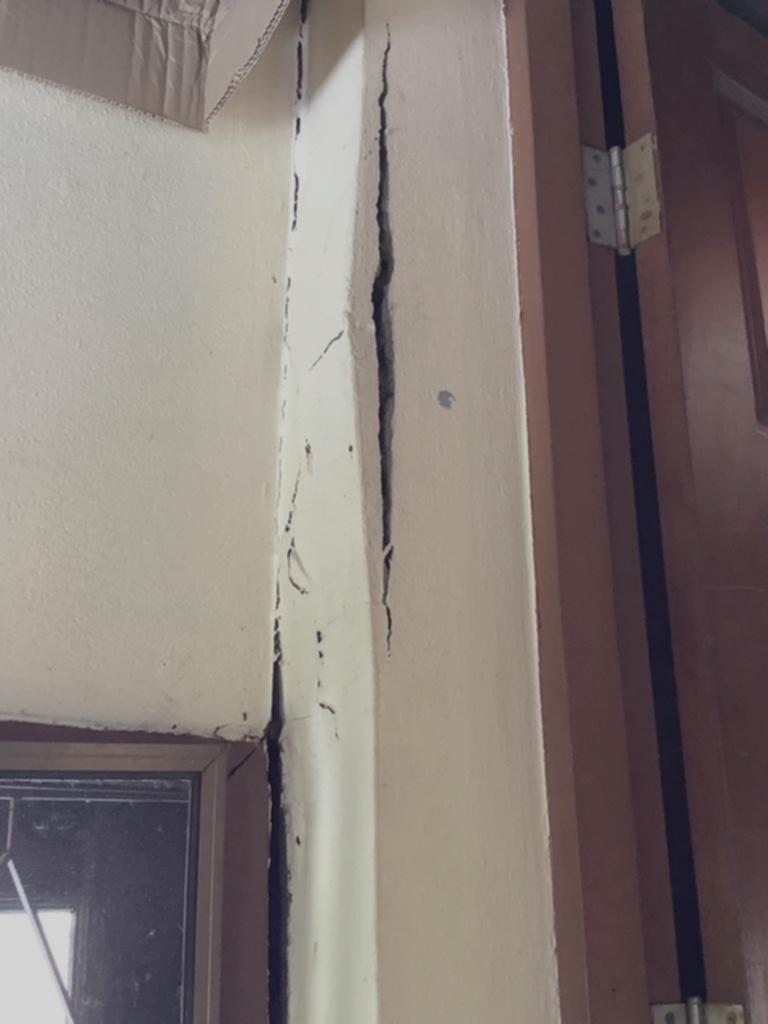High: (244, 1, 401, 1024)
